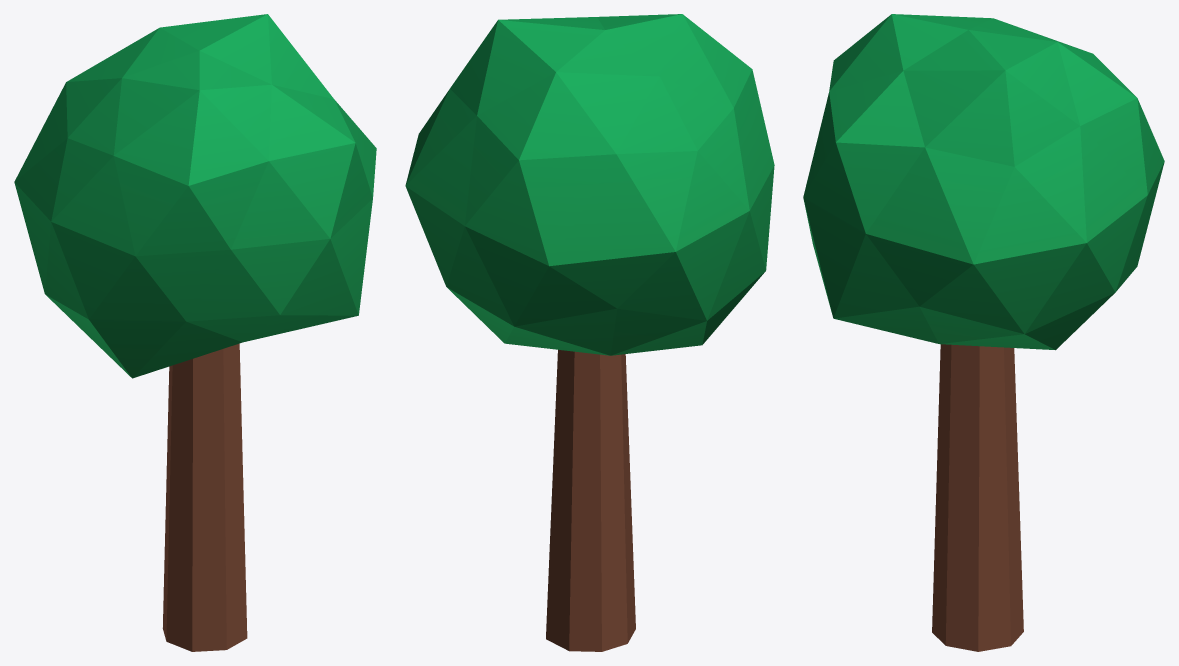
File: Tree_04_gradient_green_vc.fbx
The picture shows the model from 3 angles, left to right: view 1: azimuth 30°, elevation 25°; view 2: azimuth 150°, elevation 25°; view 3: azimuth 270°, elevation 25°; orthographic projection. The views are drawn at different scales.
Visible parts, largest first — view 1: Tree_04_gradient_green_vc; view 2: Tree_04_gradient_green_vc; view 3: Tree_04_gradient_green_vc.
Boxes of the visible parts, <box> form: Tree_04_gradient_green_vc: <box>14,14,376,651</box>; Tree_04_gradient_green_vc: <box>405,14,774,651</box>; Tree_04_gradient_green_vc: <box>803,14,1164,651</box>.
Size of the model in its own units: 111 by 193 by 105.
